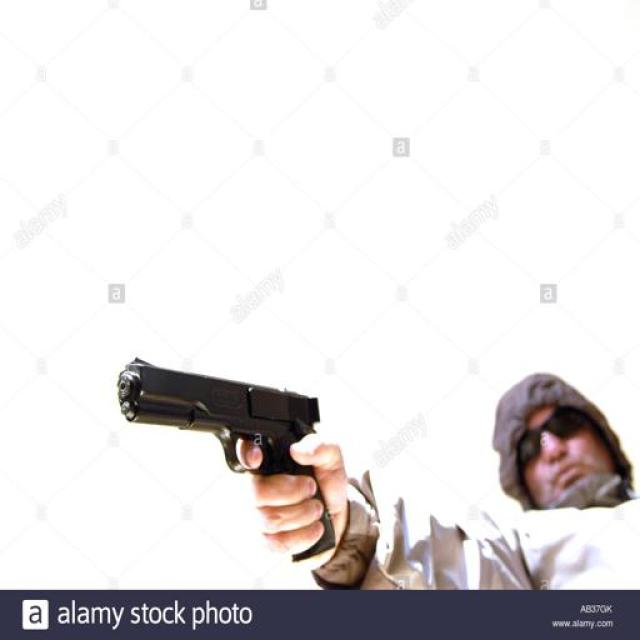pistol: (112, 349, 336, 561)
